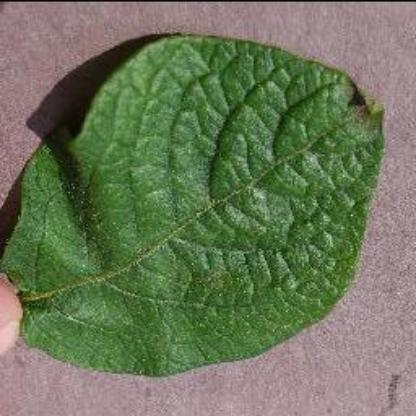Healthy-plant: (8, 30, 386, 378)
